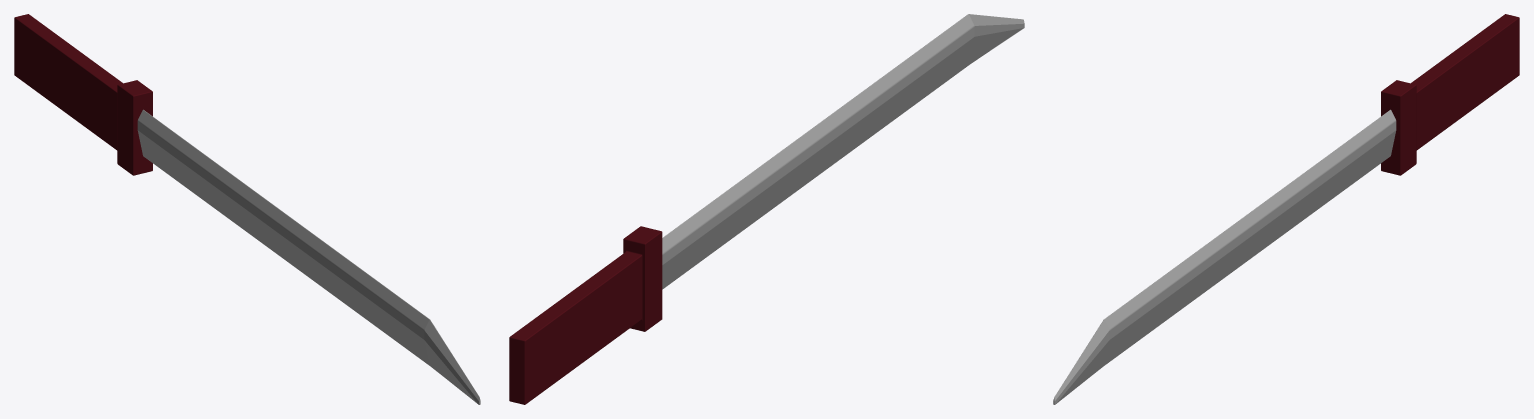
The model's file is sword.fbx.
The picture shows the model from 3 angles, left to right: view 1: azimuth 30°, elevation 25°; view 2: azimuth 150°, elevation 25°; view 3: azimuth 330°, elevation 25°; orthographic projection. The views are drawn at different scales.
Parts seen in each view (by area): view 1: Cube.003; view 2: Cube.003; view 3: Cube.003.
Part boxes in pixels (bbox=[...]): Cube.003: bbox=[14, 14, 480, 404]; Cube.003: bbox=[509, 14, 1024, 404]; Cube.003: bbox=[1053, 14, 1519, 404].
Bounding box in the file's own units: 13.59 × 51.88 × 539.
